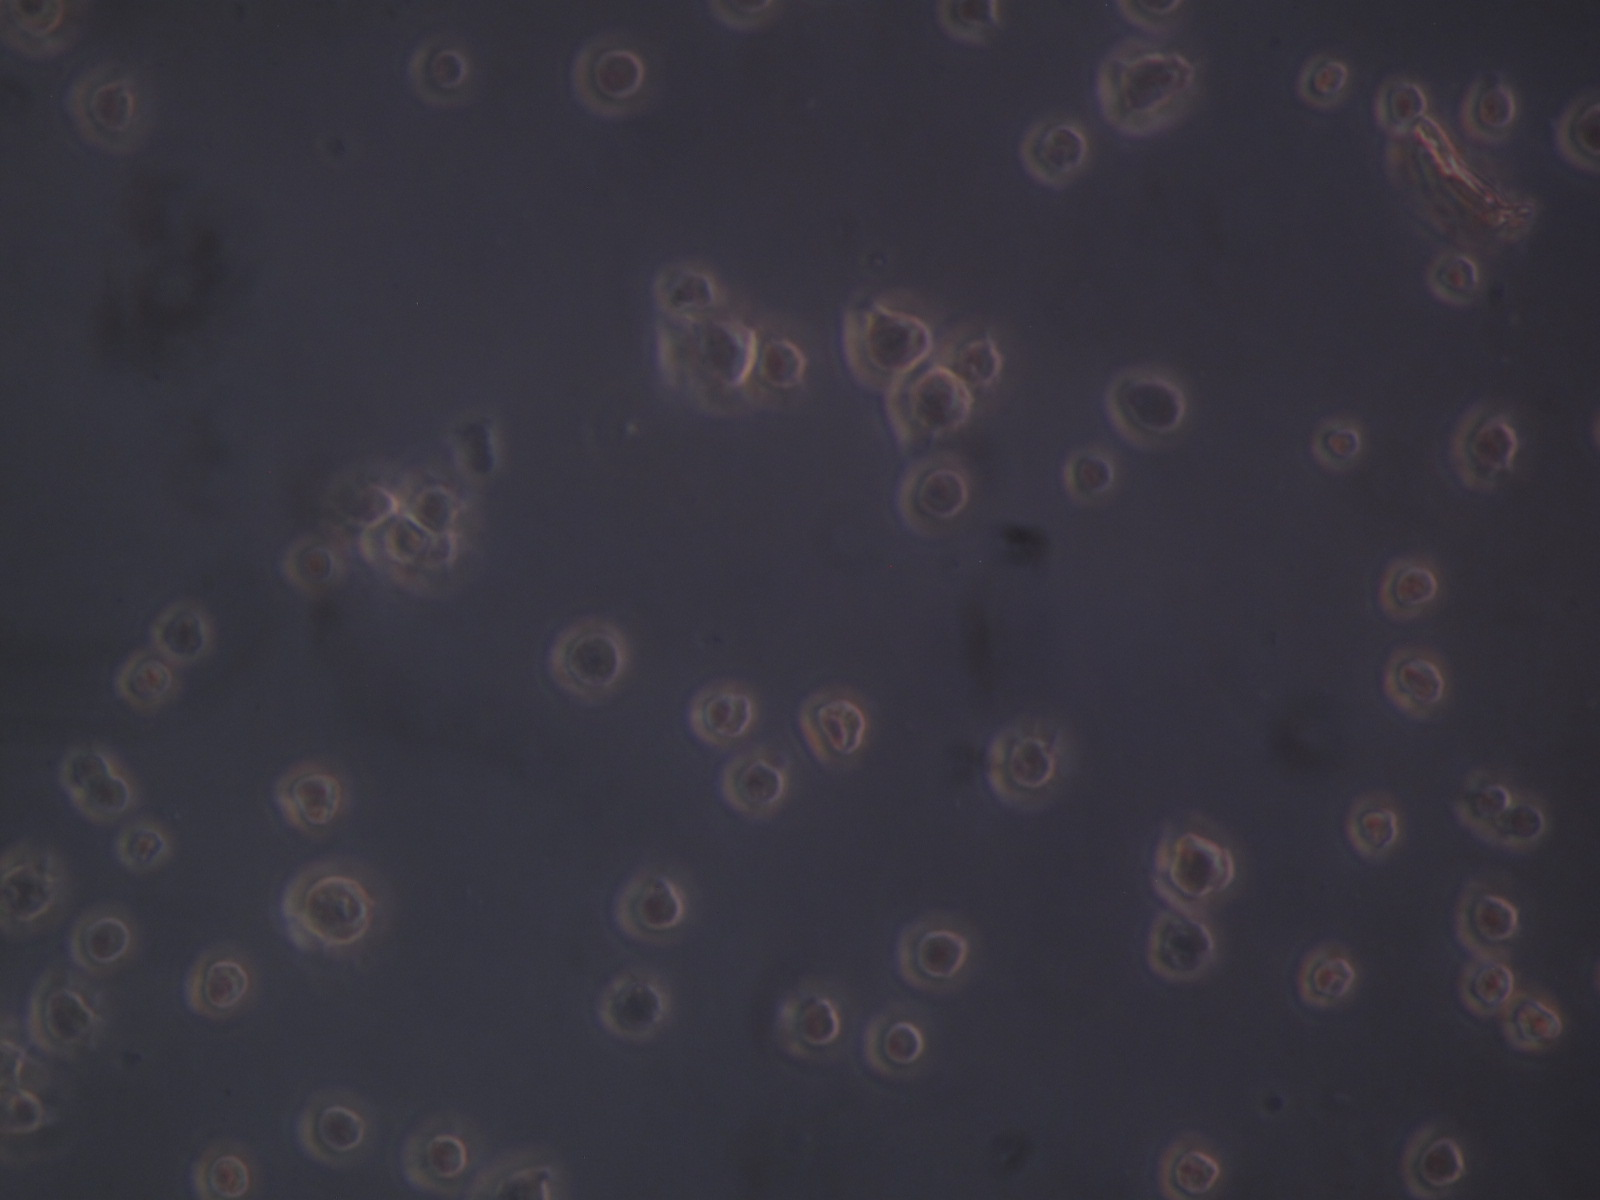hemo: (839, 296, 936, 393), (1101, 42, 1199, 134), (984, 716, 1073, 809), (677, 316, 757, 418), (281, 863, 369, 957), (1151, 821, 1233, 911), (26, 967, 106, 1056), (747, 315, 820, 408), (883, 364, 976, 437), (1105, 369, 1184, 451), (551, 618, 629, 698), (571, 33, 643, 118), (1451, 401, 1516, 495), (795, 689, 868, 771), (896, 455, 970, 534), (67, 68, 135, 151), (896, 919, 969, 992), (1398, 1121, 1466, 1199), (1455, 879, 1519, 959), (1148, 911, 1216, 984), (299, 1094, 368, 1163), (615, 874, 683, 944), (1380, 647, 1445, 718), (62, 901, 134, 967), (408, 35, 472, 108), (777, 988, 840, 1063), (272, 763, 340, 829), (1020, 116, 1085, 187), (403, 1122, 466, 1192), (646, 263, 729, 316), (1, 843, 57, 923), (721, 755, 787, 819), (186, 950, 248, 1020), (944, 328, 1009, 392), (601, 974, 665, 1040), (1458, 76, 1516, 147), (190, 1143, 263, 1200), (147, 603, 212, 666), (867, 1013, 927, 1080), (113, 650, 175, 713), (3, 1, 79, 52), (1500, 992, 1567, 1050), (1295, 945, 1356, 1008), (692, 682, 751, 745), (1162, 1136, 1220, 1200), (1455, 958, 1514, 1020), (1380, 560, 1439, 620), (1555, 93, 1600, 171), (1480, 800, 1547, 853), (336, 474, 401, 528), (281, 539, 345, 592), (1296, 49, 1351, 111), (1309, 416, 1368, 471), (1057, 446, 1117, 500), (1450, 776, 1511, 829), (1347, 805, 1401, 863), (483, 1157, 554, 1200), (1429, 248, 1479, 308), (934, 1, 999, 44), (407, 482, 460, 533), (76, 771, 131, 821), (1, 1082, 48, 1139), (384, 514, 433, 567), (59, 745, 112, 793), (1374, 78, 1427, 125), (113, 823, 166, 870), (1116, 1, 1191, 30)
